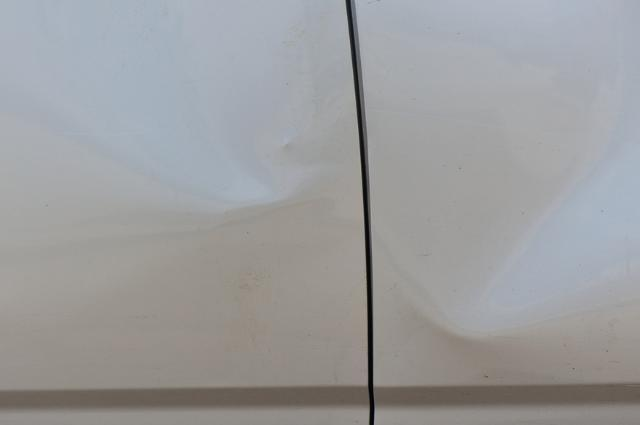Door: (398, 155, 587, 331), (135, 95, 299, 233)
